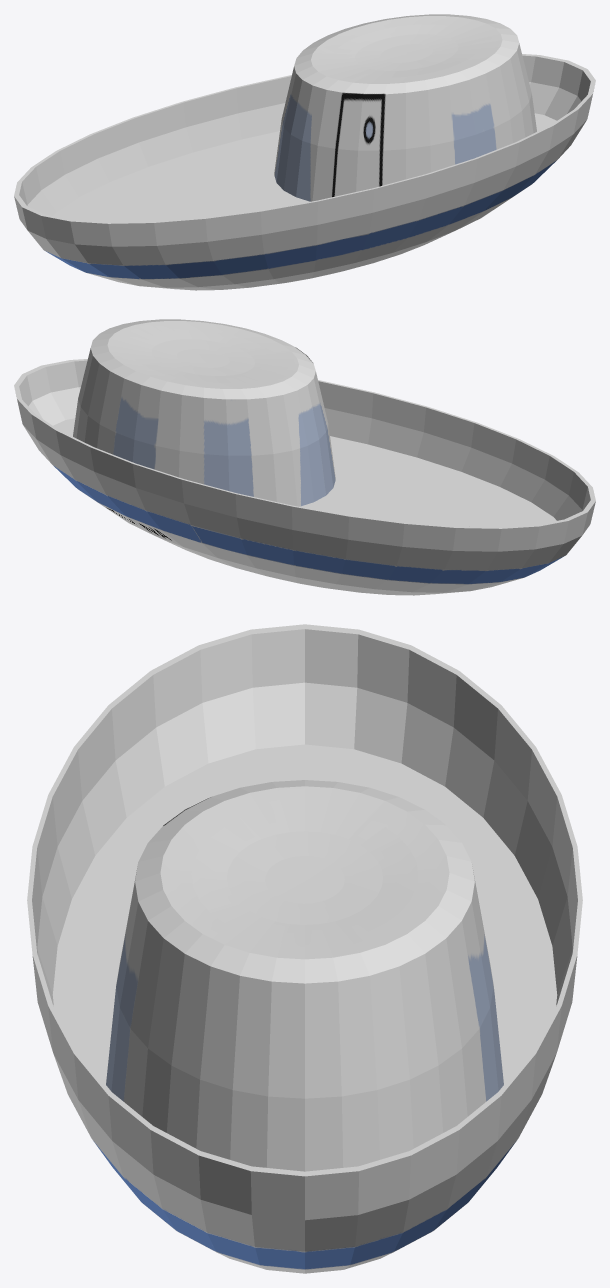
Rendered from FishingBoat.obj.
3 renders of one model, top to bottom at view 1: azimuth 30°, elevation 25°; view 2: azimuth 150°, elevation 25°; view 3: azimuth 270°, elevation 25°, orthographic. The views are drawn at different scales.
Parts seen in each view (by area): view 1: 球; view 2: 球; view 3: 球.
Boxes of the visible parts, x1=… form: 球: x1=14, y1=14, x2=595, y2=290; 球: x1=14, y1=319, x2=595, y2=595; 球: x1=27, y1=624, x2=582, y2=1273.
Size of the model in its own units: 4.7 by 1.5 by 2.
1 material, 1 textured.
